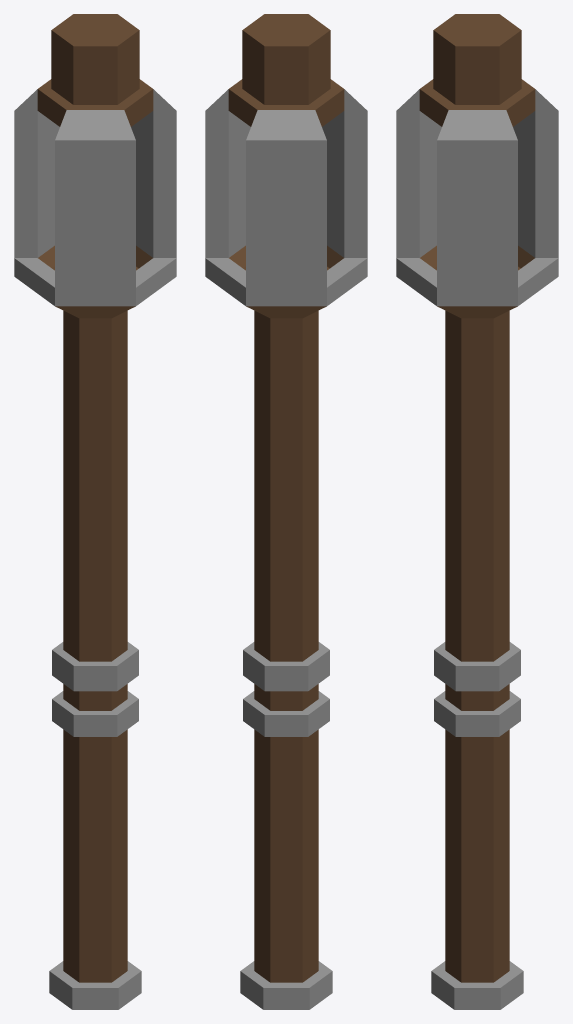
Rendered from light_lamp_stand.fbx.
3 views of the same model, side by side, from view 1: azimuth 30°, elevation 25°; view 2: azimuth 150°, elevation 25°; view 3: azimuth 270°, elevation 25° (orthographic).
Parts seen in each view (by area): view 1: Cylinder; view 2: Cylinder; view 3: Cylinder.
Boxes of the visible parts, bbox=[...] form: Cylinder: bbox=[14, 14, 176, 1009]; Cylinder: bbox=[205, 14, 367, 1009]; Cylinder: bbox=[396, 14, 558, 1009].
Size of the model in its own units: 37.05 by 280 by 42.79.
